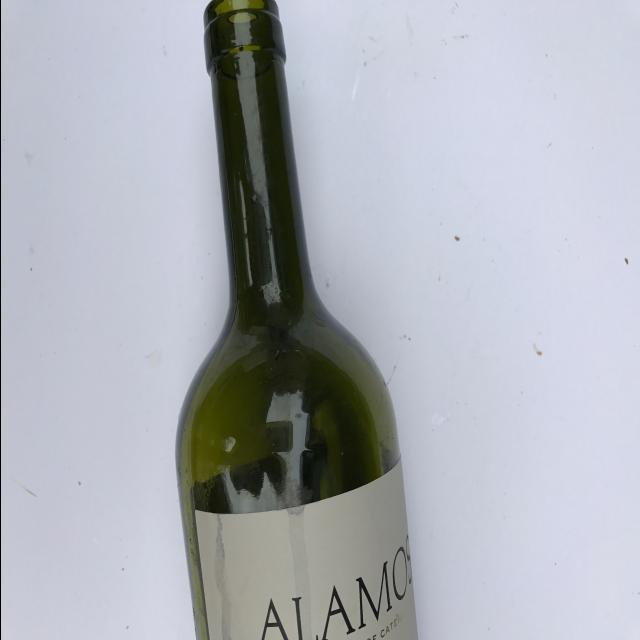glass: (177, 6, 420, 640)
